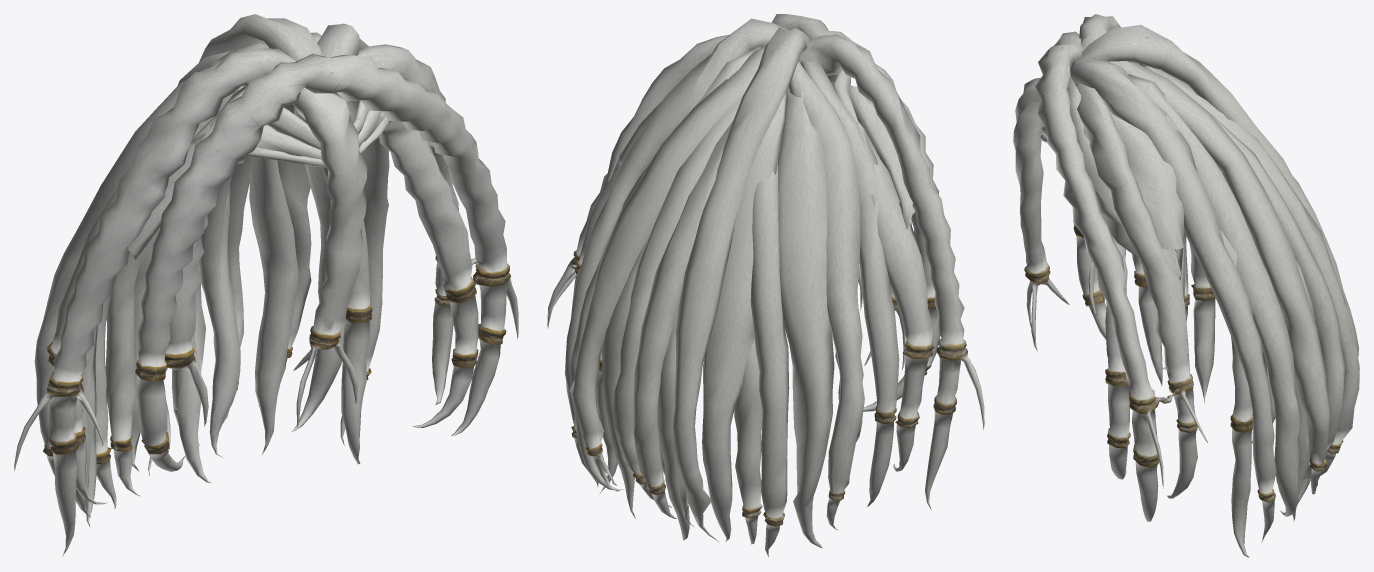
The model's file is hair-0.glb.
3 views of the same model, side by side, from view 1: azimuth 30°, elevation 25°; view 2: azimuth 150°, elevation 25°; view 3: azimuth 270°, elevation 25° (orthographic). The views are drawn at different scales.
Bounding box in the file's own units: 0.936 × 0.9478 × 0.6348.
Materials: 1 (1 with a texture image).
